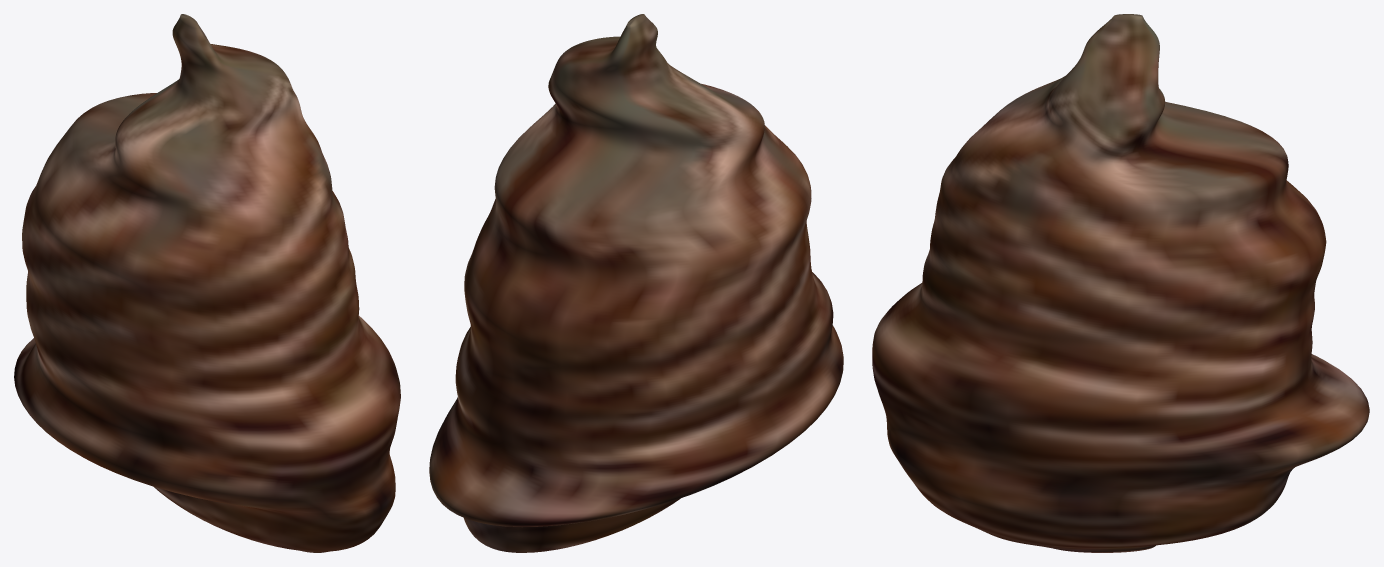
3 views of the same model, side by side, from view 1: azimuth 30°, elevation 25°; view 2: azimuth 150°, elevation 25°; view 3: azimuth 270°, elevation 25° (orthographic). The views are drawn at different scales.
Parts seen in each view (by area): view 1: hull-M2; view 2: hull-M2; view 3: hull-M2.
Part boxes in pixels (bbox=[...]): hull-M2: bbox=[14, 14, 400, 552]; hull-M2: bbox=[429, 14, 843, 552]; hull-M2: bbox=[872, 14, 1369, 552].
Bounding box in the file's own units: 1.58 × 2.6 × 2.34.
